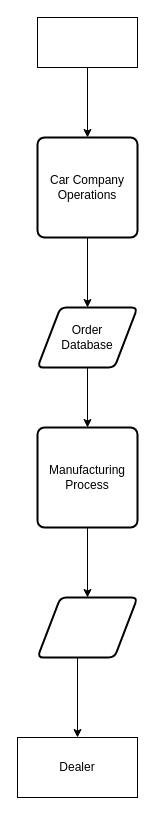
This 156x815 diagram has some shape labels left out. Each missing label, with the box of its shape:
Customer: (36, 16, 138, 68)
Inventory Database: (36, 596, 138, 658)
